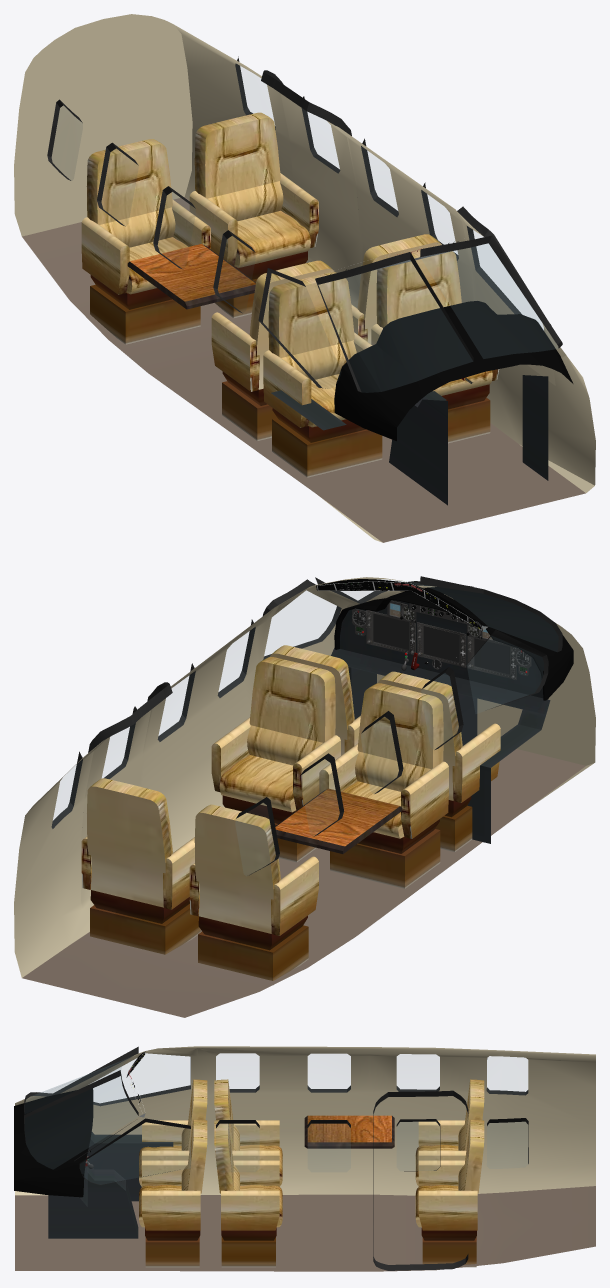
The model's file is interior.gltf.
The picture shows the model from 3 angles, top to bottom: view 1: azimuth 30°, elevation 25°; view 2: azimuth 150°, elevation 25°; view 3: azimuth 270°, elevation 25°; orthographic projection. The views are drawn at different scales.
Visible parts, largest first — view 1: Interior; view 2: Interior; view 3: Interior.
Part boxes in pixels (bbox=[...]): Interior: bbox=[14, 14, 595, 542]; Interior: bbox=[14, 576, 595, 1017]; Interior: bbox=[14, 1046, 595, 1271].
Bounding box in the file's own units: 1.39 × 1.32 × 4.05.
31 materials, 27 textured.
